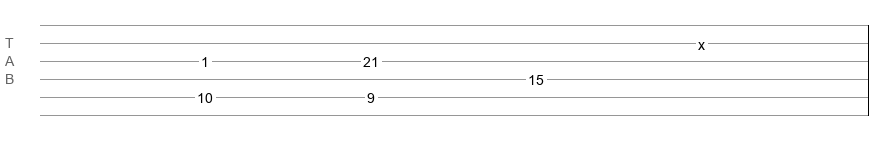1: (201, 54, 209, 64)
10: (197, 90, 213, 100)
15: (528, 72, 544, 82)
21: (363, 54, 379, 64)
9: (367, 90, 375, 100)
x: (698, 37, 705, 45)
